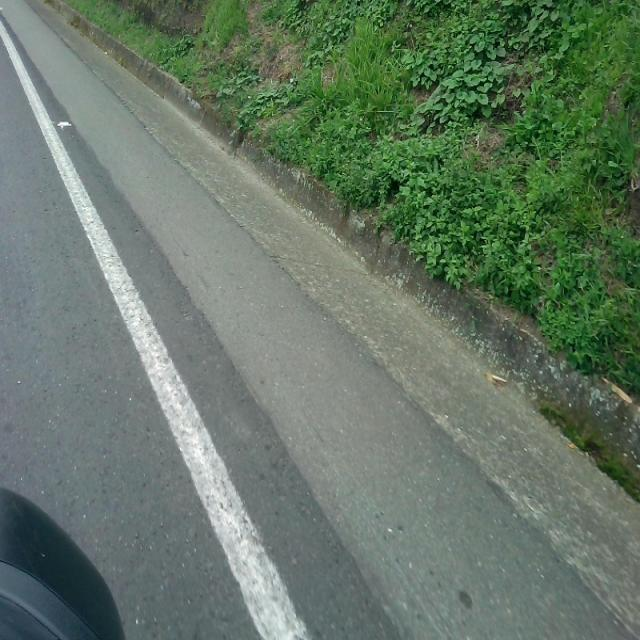DITCH: (2, 1, 638, 638), (1, 61, 638, 638)
